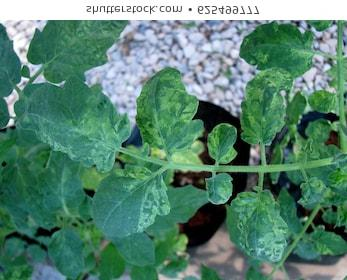Tomato leaf mosaic virus: (12, 76, 130, 170), (89, 161, 171, 243), (133, 67, 205, 156), (221, 179, 288, 268), (239, 24, 315, 81), (240, 69, 296, 145), (205, 117, 238, 164), (202, 170, 232, 205)
